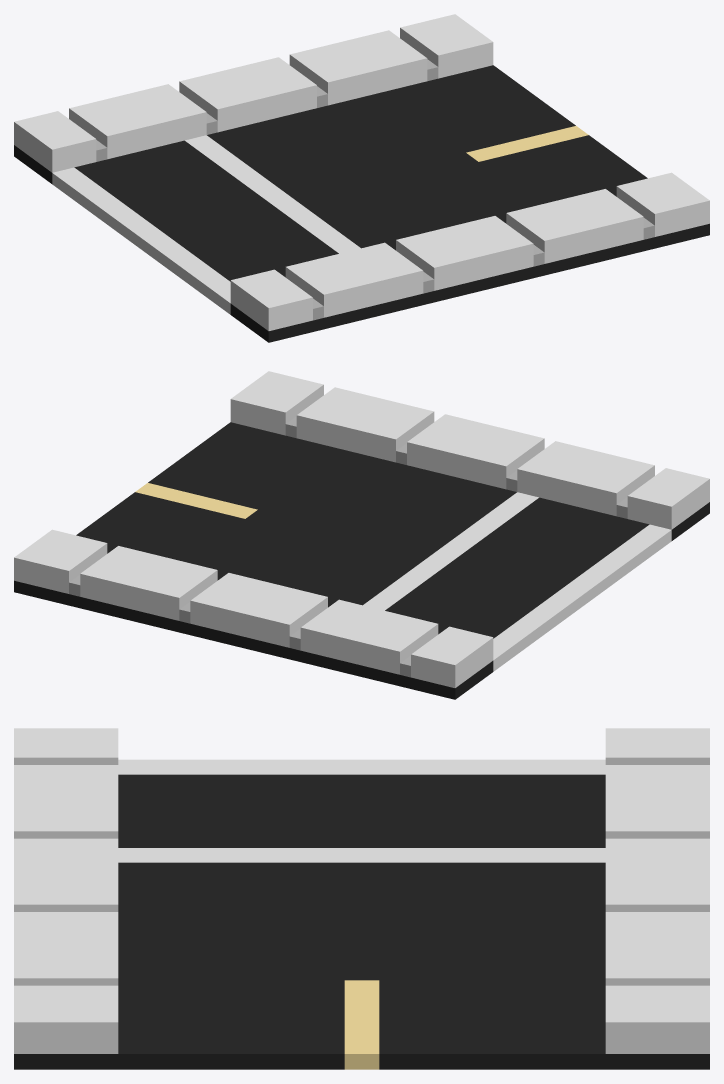
3 renders of one model, top to bottom at view 1: azimuth 30°, elevation 25°; view 2: azimuth 150°, elevation 25°; view 3: azimuth 270°, elevation 25°, orthographic. The views are drawn at different scales.
Visible parts, largest first — view 1: Matrix_11; view 2: Matrix_11; view 3: Matrix_11.
Boxes of the visible parts, bbox=[...] form: Matrix_11: bbox=[14, 14, 709, 342]; Matrix_11: bbox=[14, 371, 709, 699]; Matrix_11: bbox=[14, 728, 709, 1069].
Bounding box in the file's own units: 40 × 3 × 40.
Materials: 1 (1 with a texture image).
